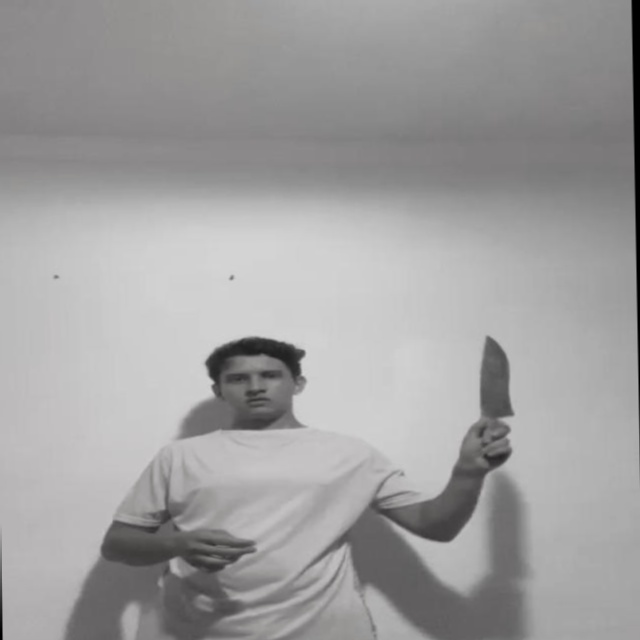Sharp-Object: (477, 334, 517, 416)
